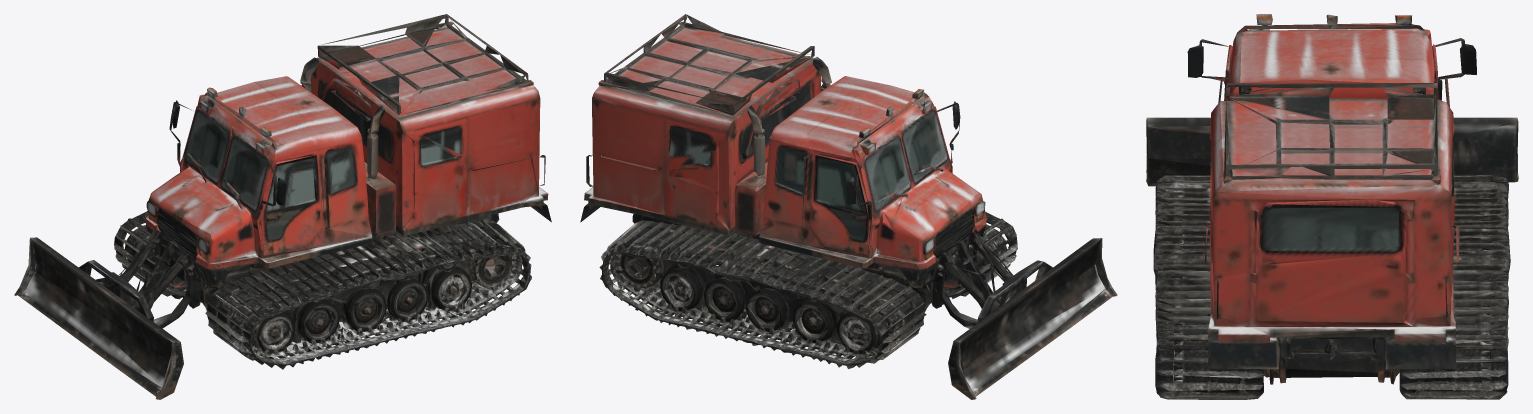
Rendered from snowcat.glb.
3 renders of one model, left to right at view 1: azimuth 30°, elevation 25°; view 2: azimuth 150°, elevation 25°; view 3: azimuth 270°, elevation 25°, orthographic. The views are drawn at different scales.
Visible parts, largest first — view 1: output_unwrapped; view 2: output_unwrapped; view 3: output_unwrapped.
Part boxes in pixels (<box>): output_unwrapped: <box>14,14,551,399</box>; output_unwrapped: <box>580,14,1117,399</box>; output_unwrapped: <box>1146,14,1518,399</box>.
Bounding box in the file's own units: 1.9 × 0.9218 × 1.12.
Materials: 1 (1 with a texture image).
